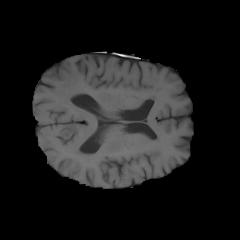glioma: (54, 70, 82, 103)
